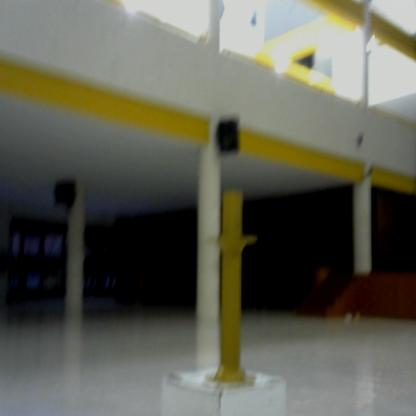pole: (203, 185, 268, 393)
